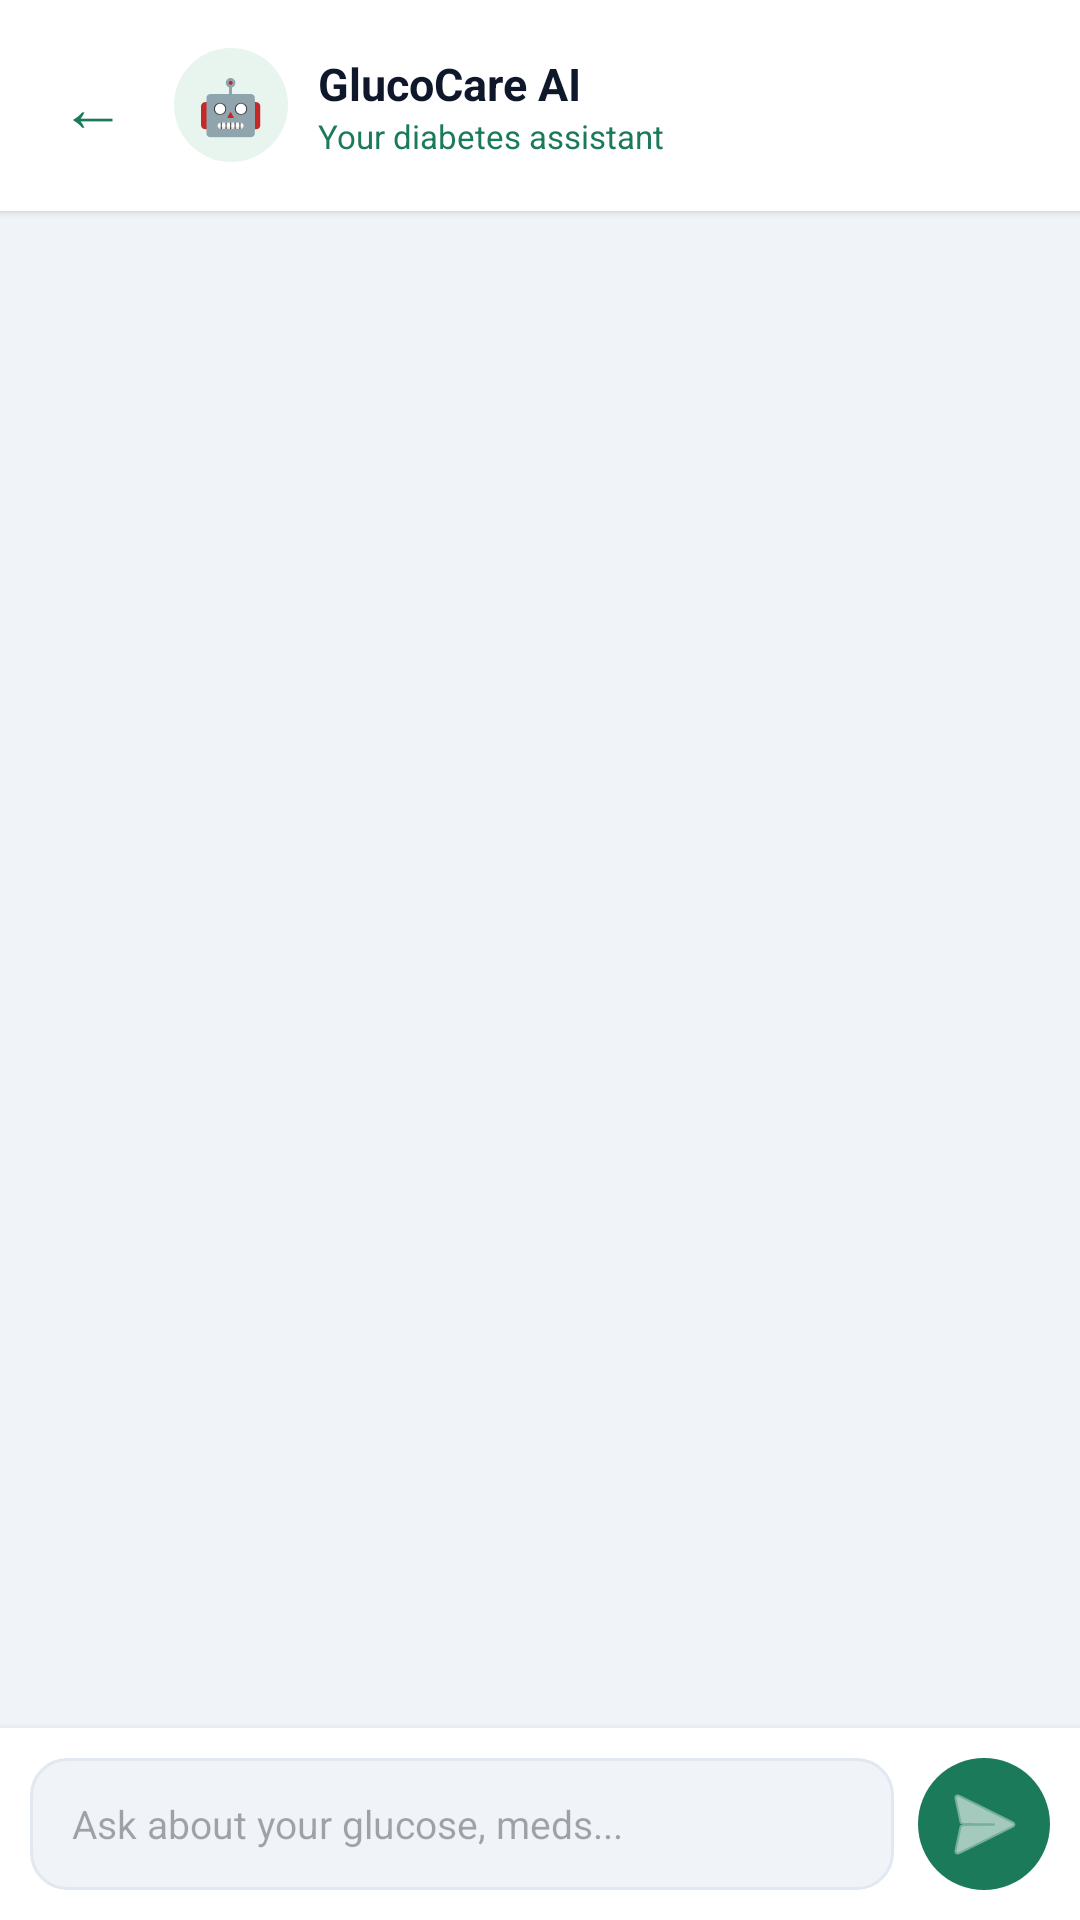

Where icons sit on this 1080 x 1920 app screen, as (x1, y1, x2, y2):
Send: (918, 1758, 1050, 1890)
